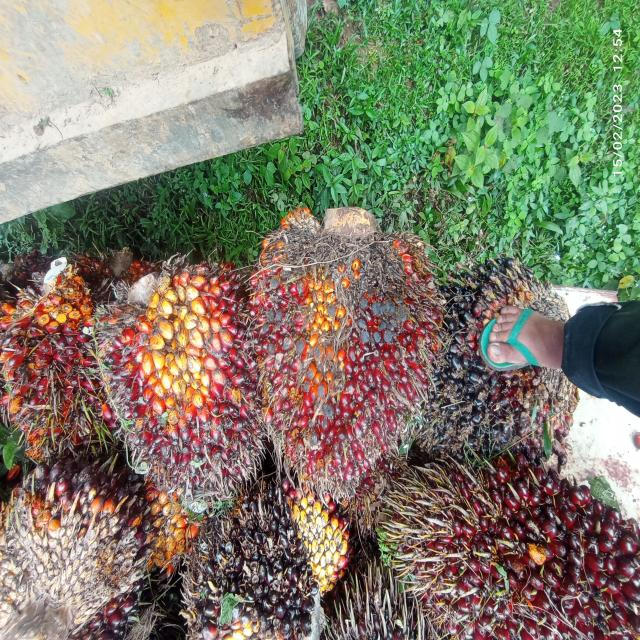fraksi 00: (180, 489, 309, 639)
fraksi 1: (82, 204, 268, 535), (390, 447, 640, 640), (0, 240, 118, 504)
fraksi 3: (228, 129, 455, 540)
